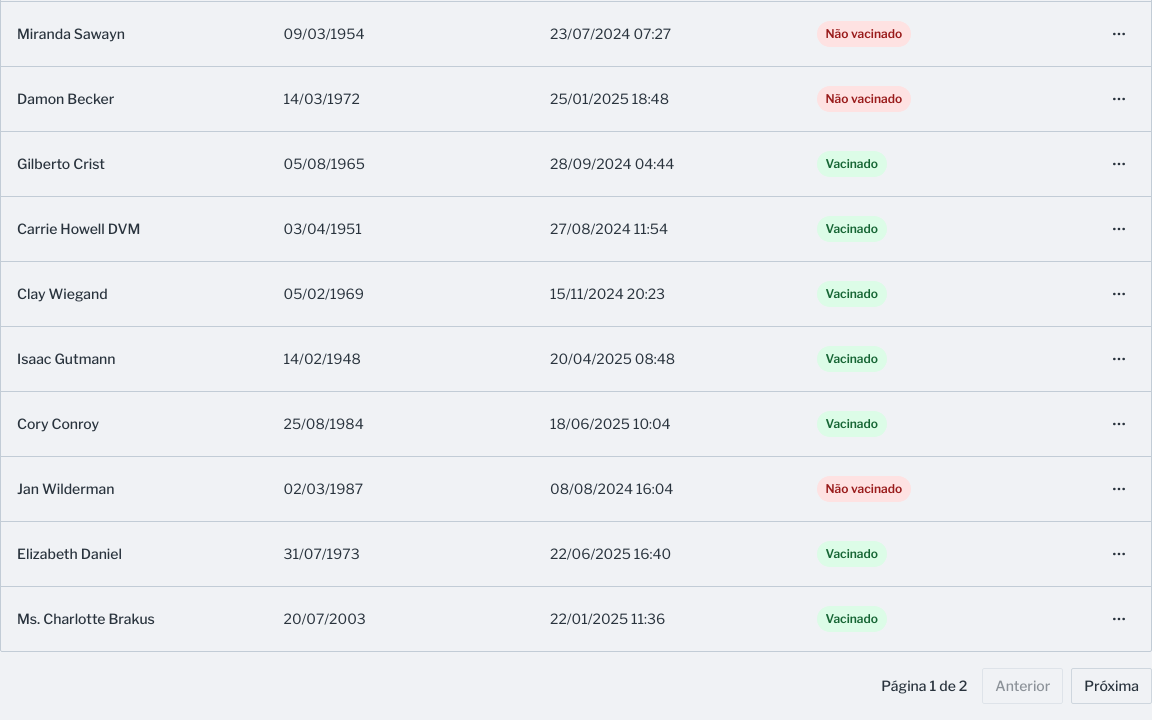
Scenario: <AppointmentsDataTable /> › should paginate the table
The image size is (1152, 720).
(page scrolled)
Expected: the text "Página 1 de 2" is shown, [874, 676, 974, 696]
Expected: the button "Anterior" is disabled, [982, 668, 1063, 704]
Click the button "Próxima": [1112, 686] box [1071, 668, 1151, 704]
(page scrolled)
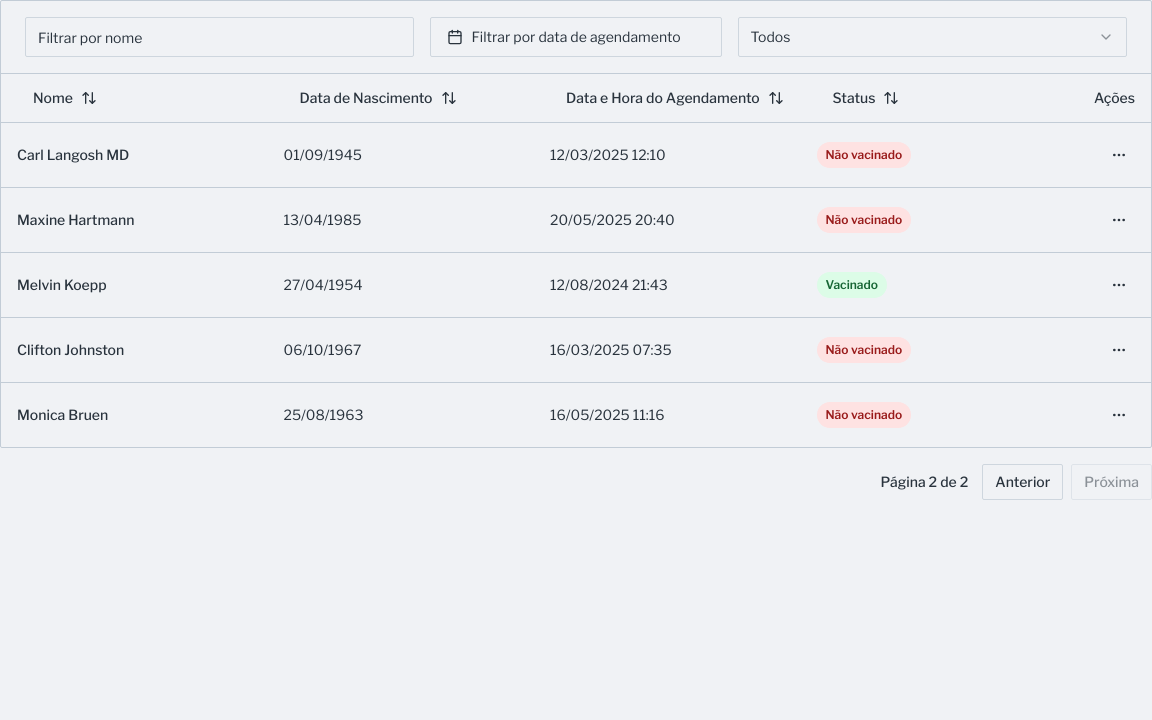
Expected: the text "Página 2 de 2" is shown, [874, 472, 974, 492]
Expected: the button "Próxima" is disabled, [1071, 464, 1151, 500]
Expected: the button "Anterior" is enabled, [982, 464, 1063, 500]
